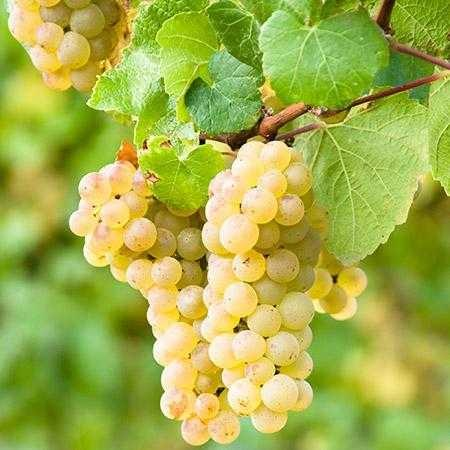Grape Unripe: (82, 143, 283, 450), (208, 114, 337, 434), (0, 0, 138, 94)
